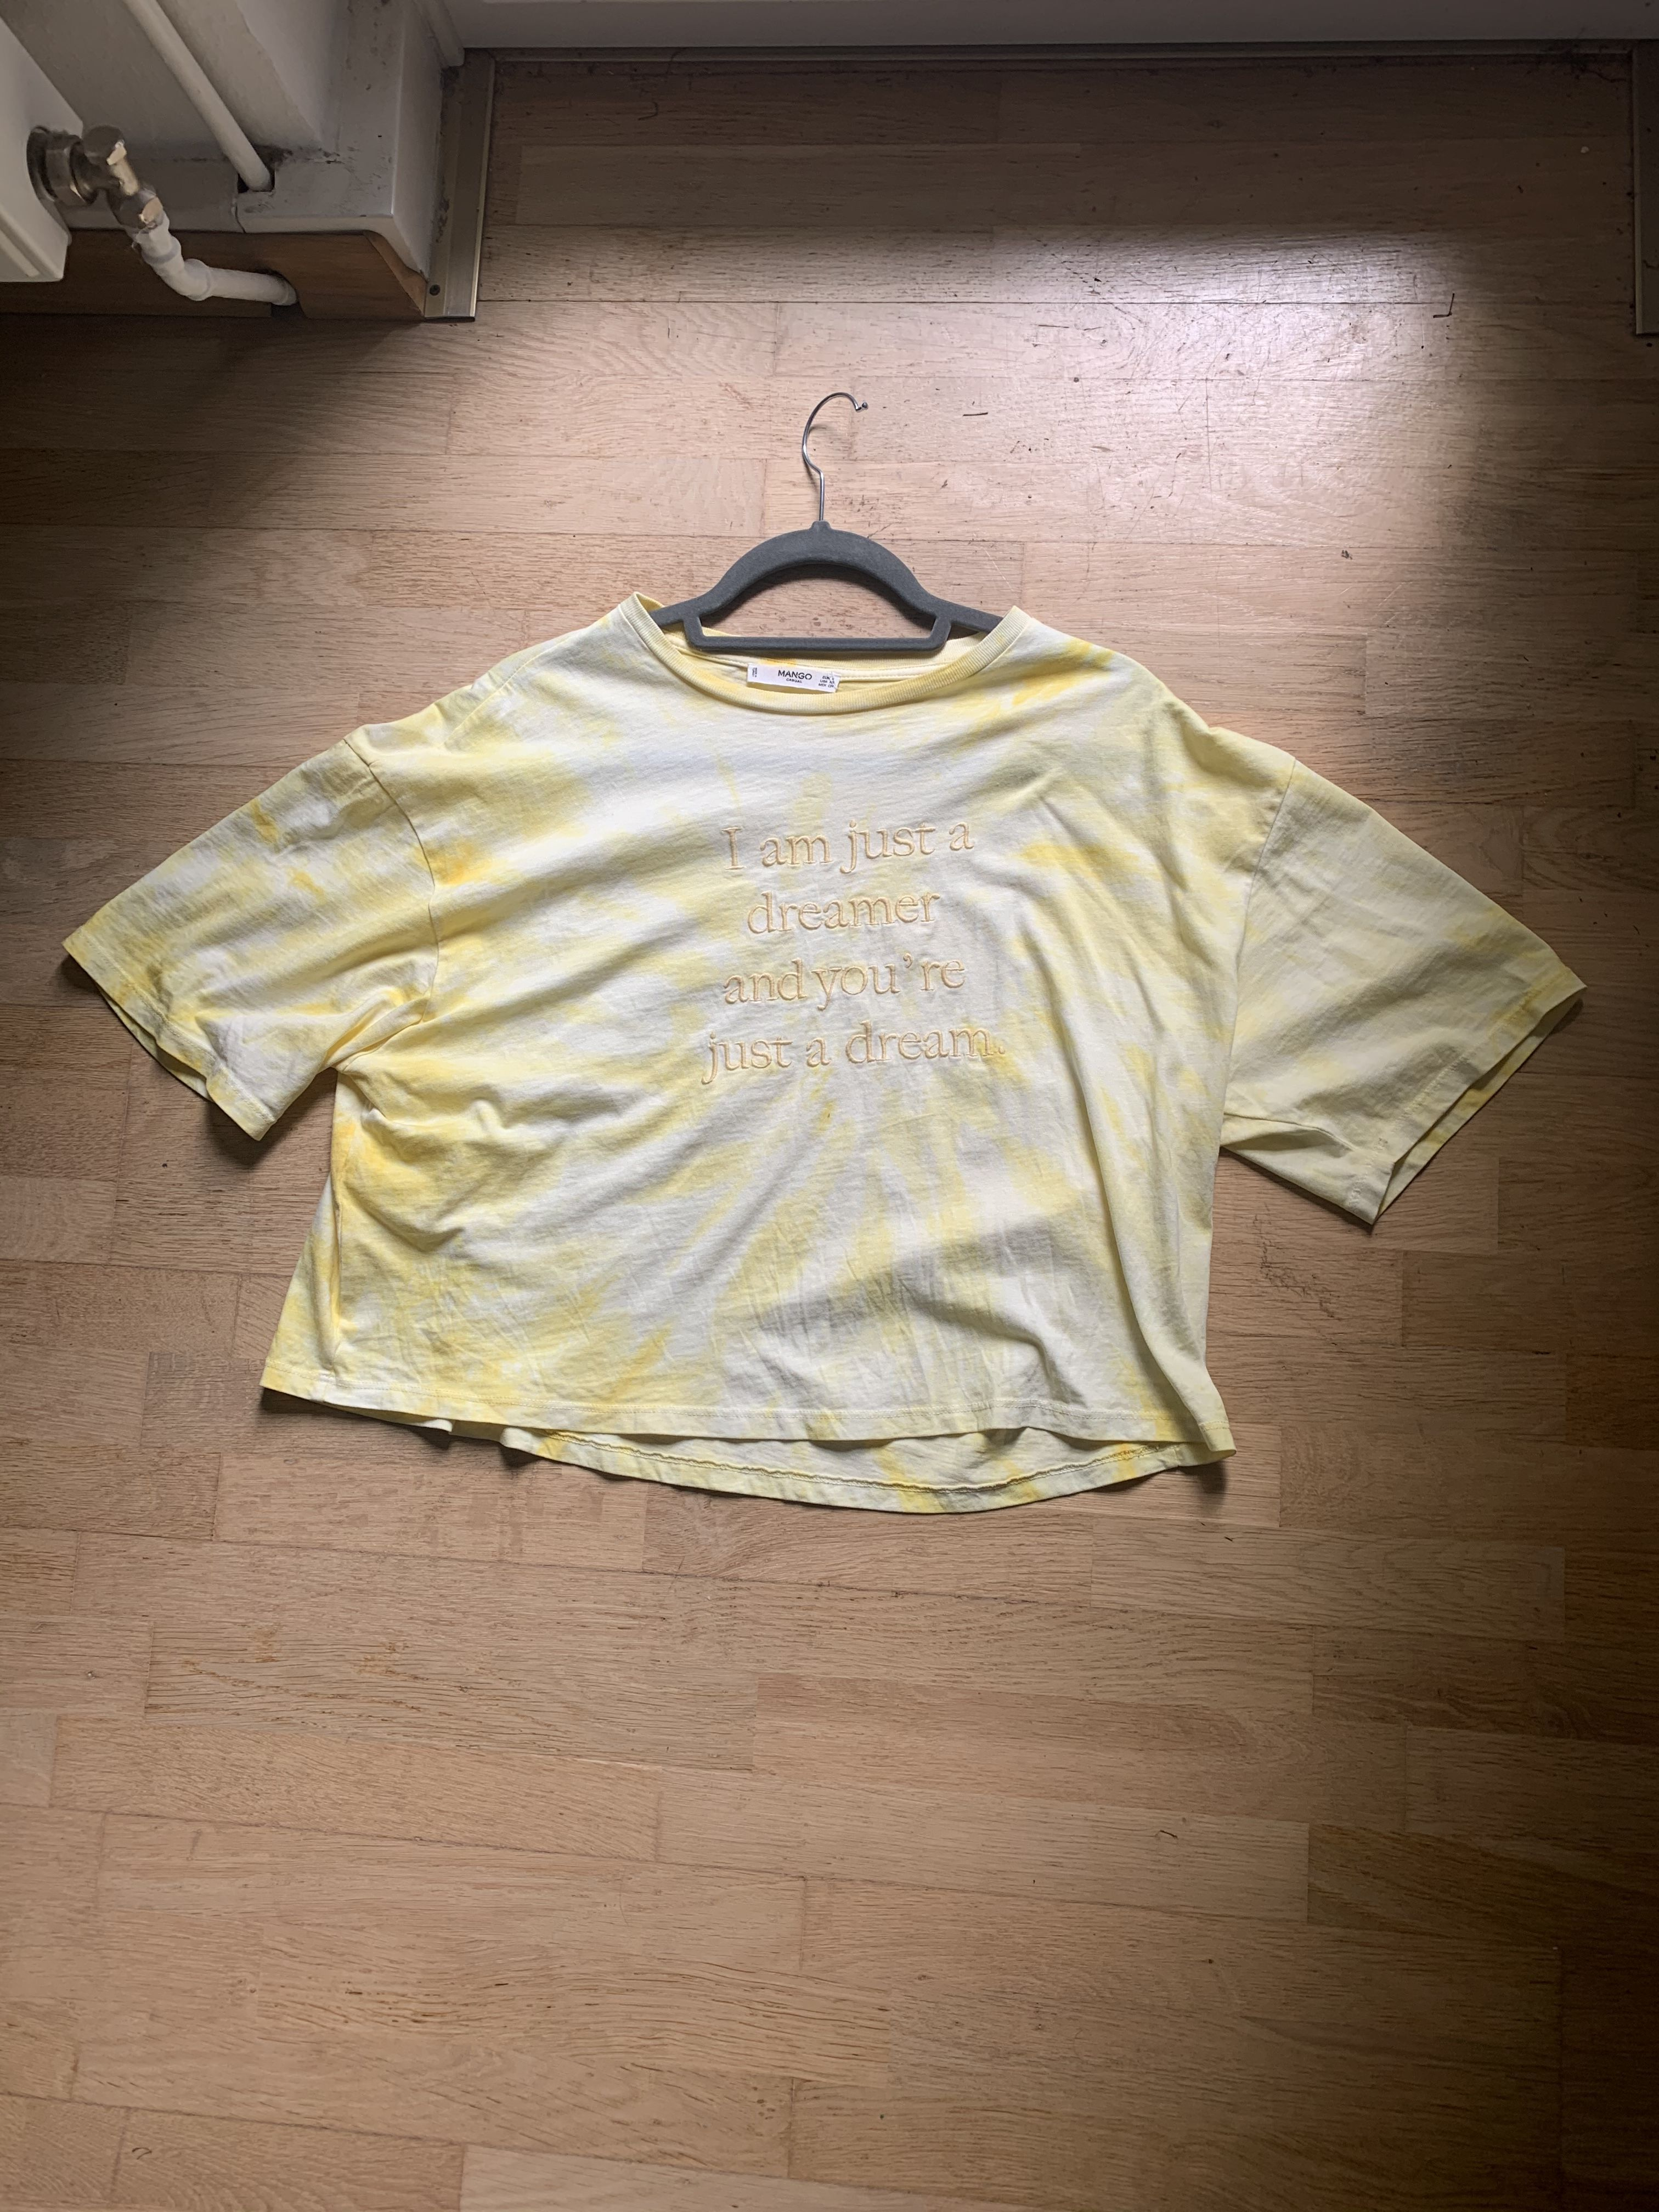clothes: (51, 563, 1589, 1501)
